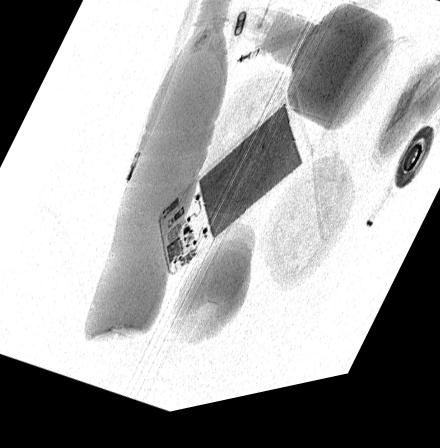Powerbank: (158, 99, 314, 283)
